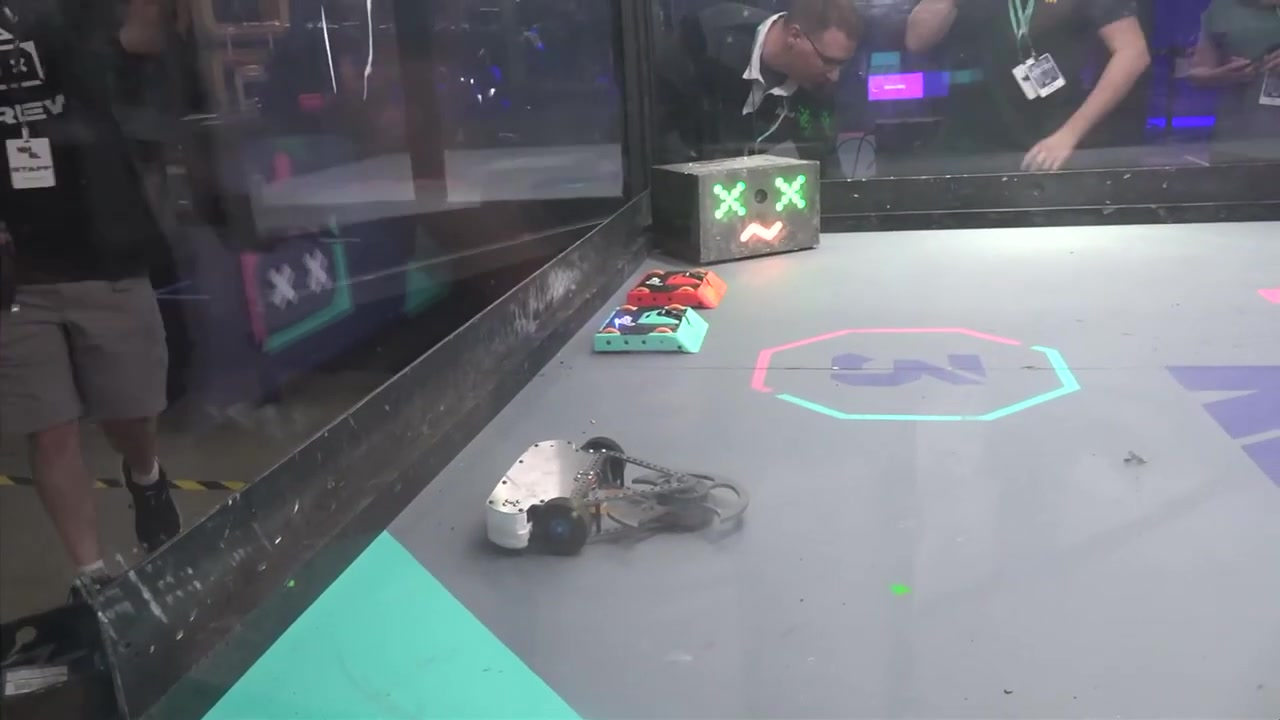combatbot: (488, 436, 710, 553), (598, 304, 702, 354), (633, 267, 720, 310)
housebot: (653, 155, 820, 267)
